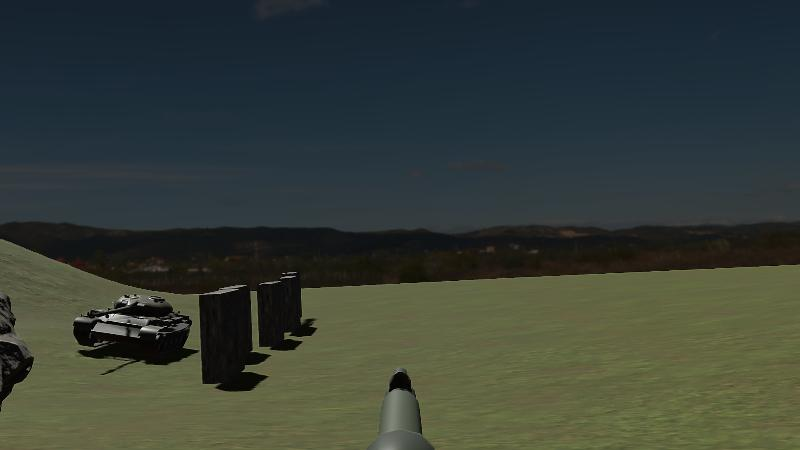Tank: (72, 290, 192, 365), (0, 248, 35, 438), (257, 267, 303, 347)
